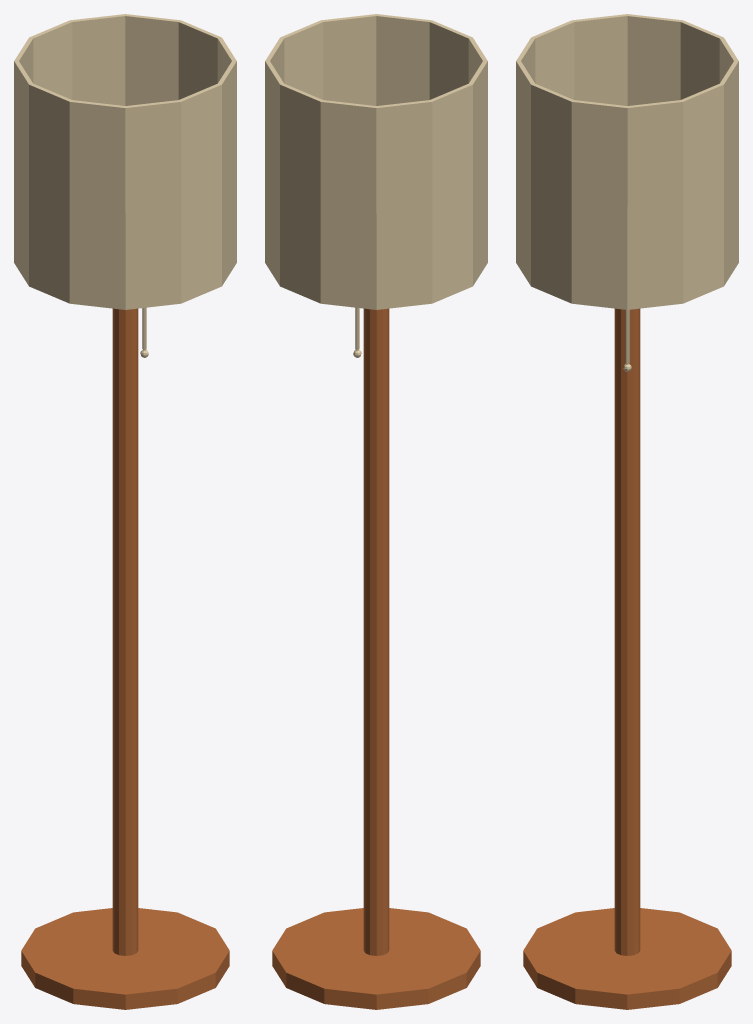
Rendered from Lampe_de_salon_gamejam.fbx.
3 renders of one model, left to right at view 1: azimuth 30°, elevation 25°; view 2: azimuth 150°, elevation 25°; view 3: azimuth 270°, elevation 25°, orthographic.
Visible parts, largest first — view 1: Lamp; view 2: Lamp; view 3: Lamp.
Part boxes in pixels (x1,y1,x2,y2): Lamp: [14, 14, 236, 1009]; Lamp: [265, 14, 487, 1009]; Lamp: [516, 14, 738, 1009].
Size of the model in its own units: 46.15 by 207 by 46.15.
